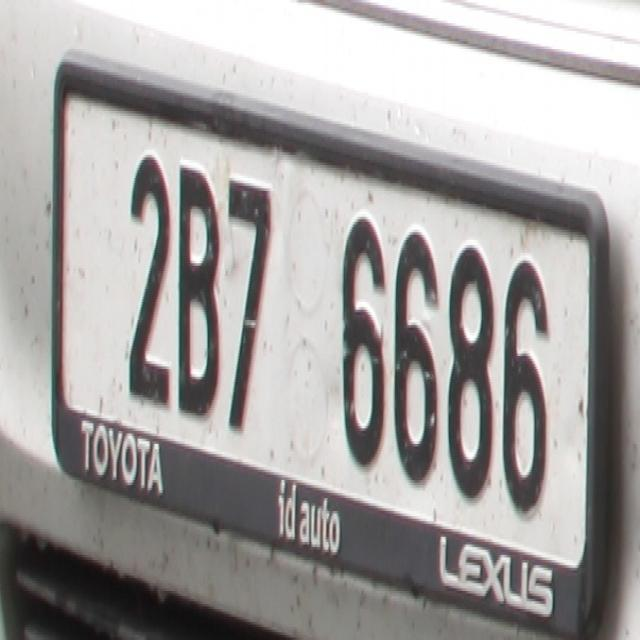2: (126, 147, 169, 405)
6: (341, 212, 388, 482), (501, 248, 546, 526), (393, 230, 438, 488)
7: (226, 172, 272, 428)
8: (446, 240, 494, 498)
B: (176, 157, 219, 416)
